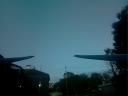window: (89, 48, 114, 57), (5, 33, 9, 52), (11, 34, 14, 52), (22, 37, 25, 51), (26, 37, 28, 46)
